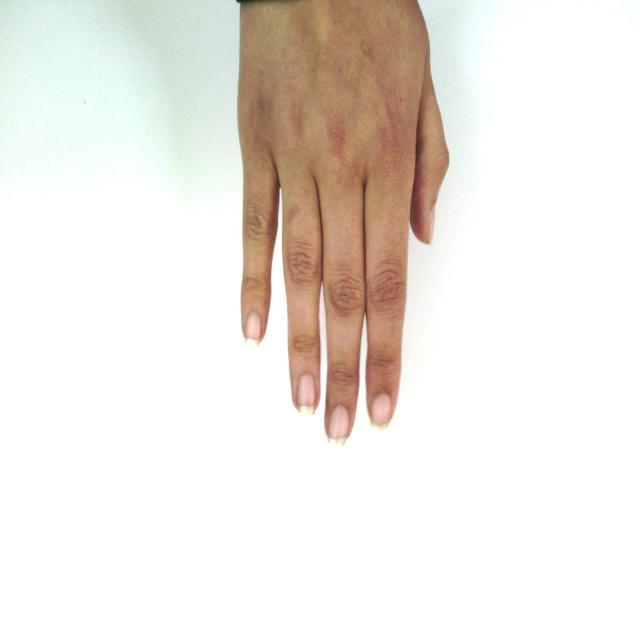Fingernail: (328, 406, 349, 445), (298, 373, 316, 413), (372, 394, 390, 428), (246, 313, 261, 344), (426, 209, 435, 243)
